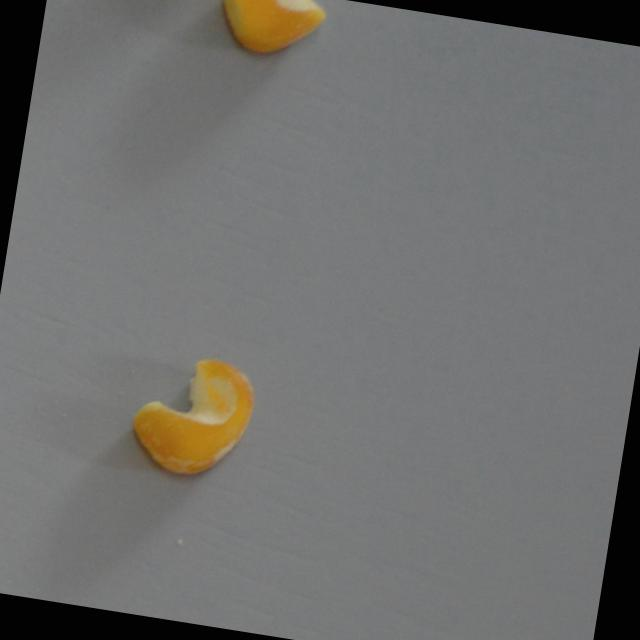no_canjicado: (213, 0, 328, 63)
pelicula: (125, 346, 260, 486)
